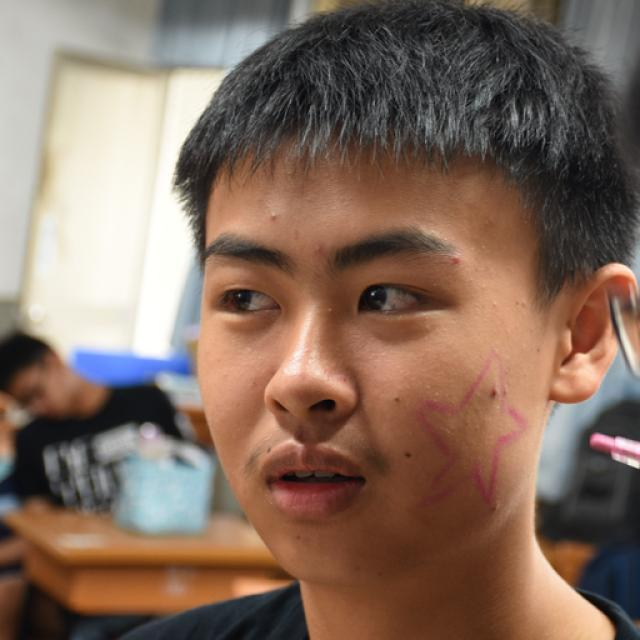surprise: (196, 126, 552, 579)
